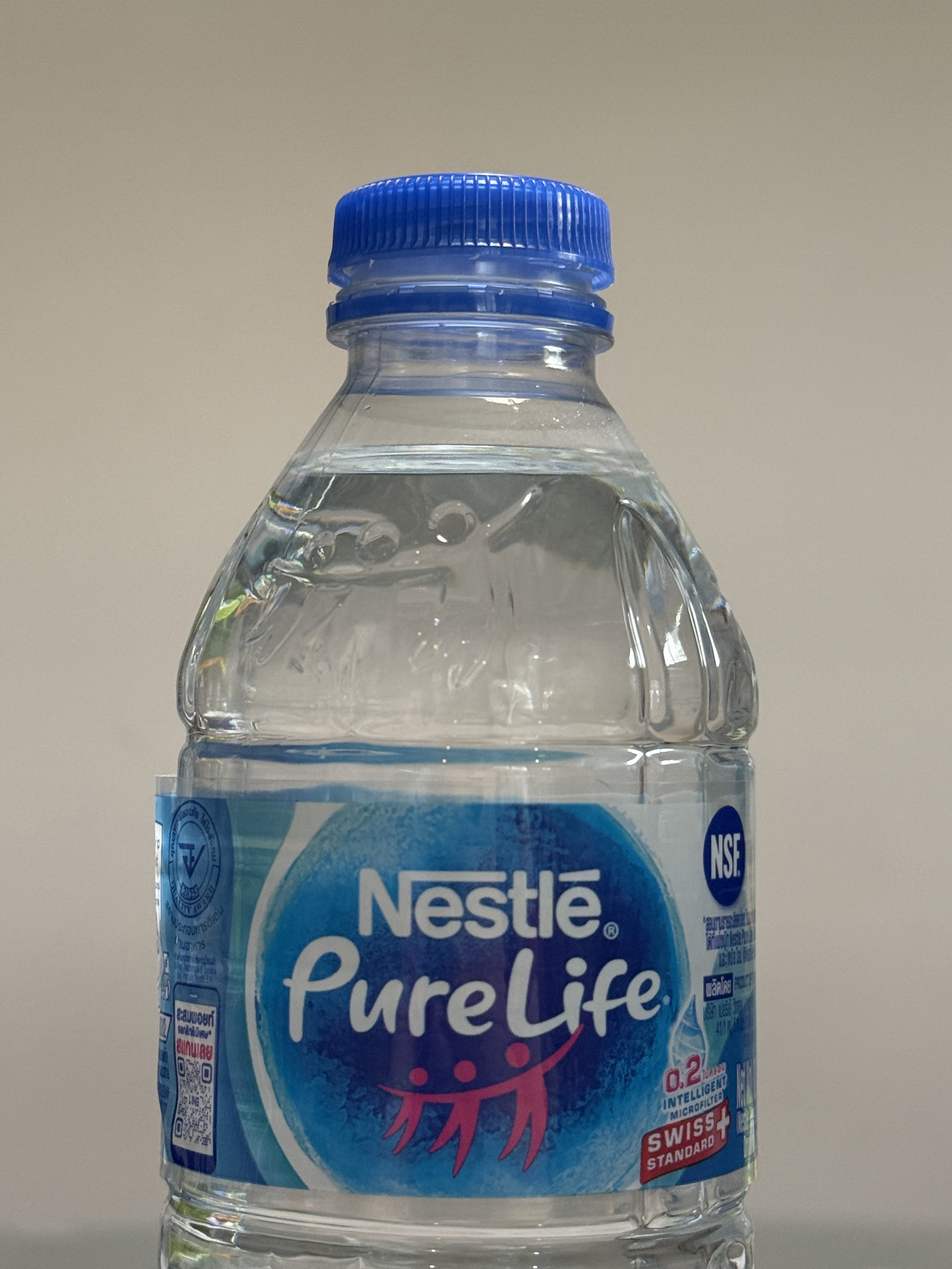half_cap: (315, 163, 623, 353)
